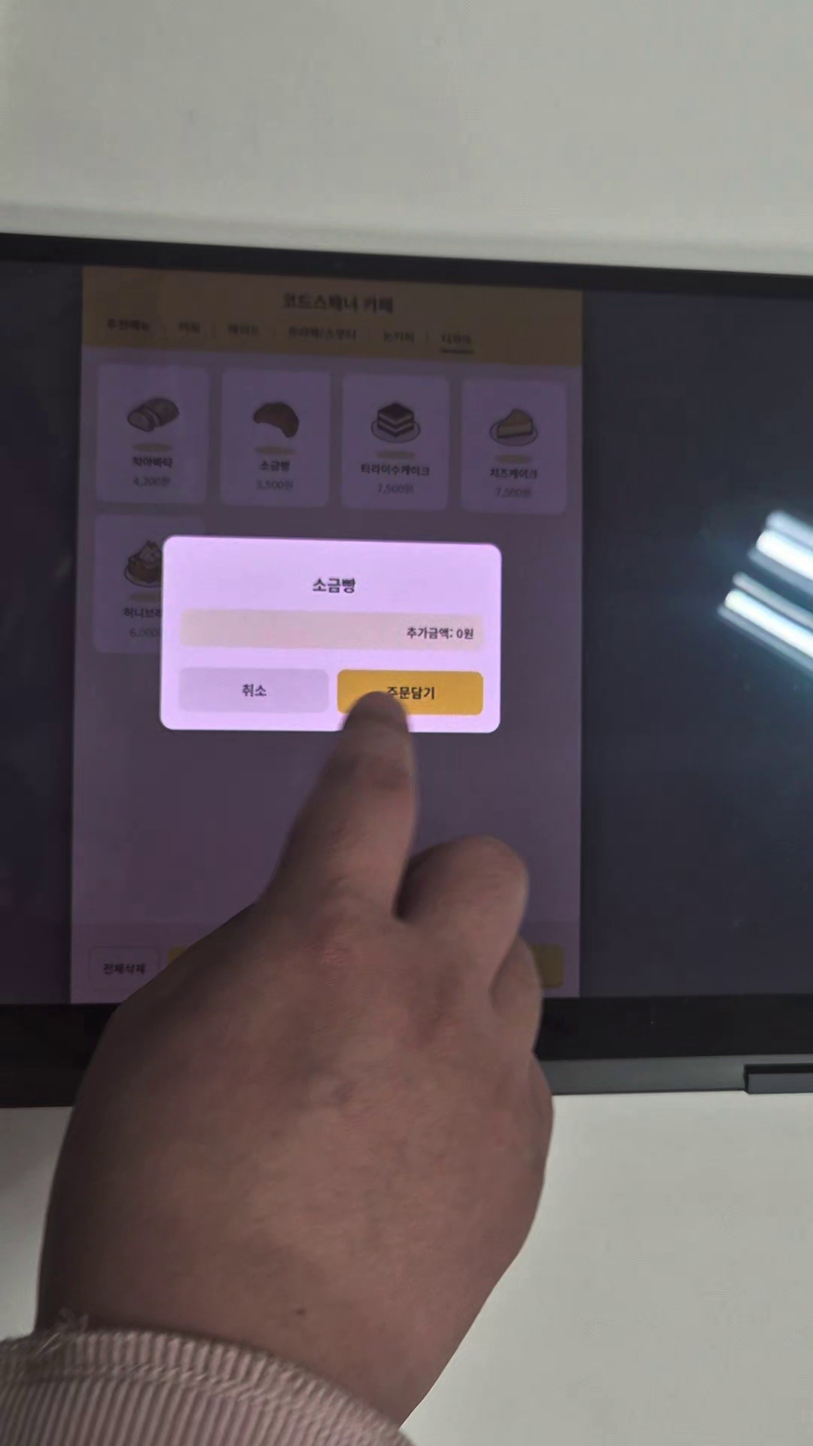action_button: (337, 670, 483, 715), (180, 668, 327, 709)
menu_name: (312, 577, 356, 595)
popup_modal: (157, 537, 502, 737)
